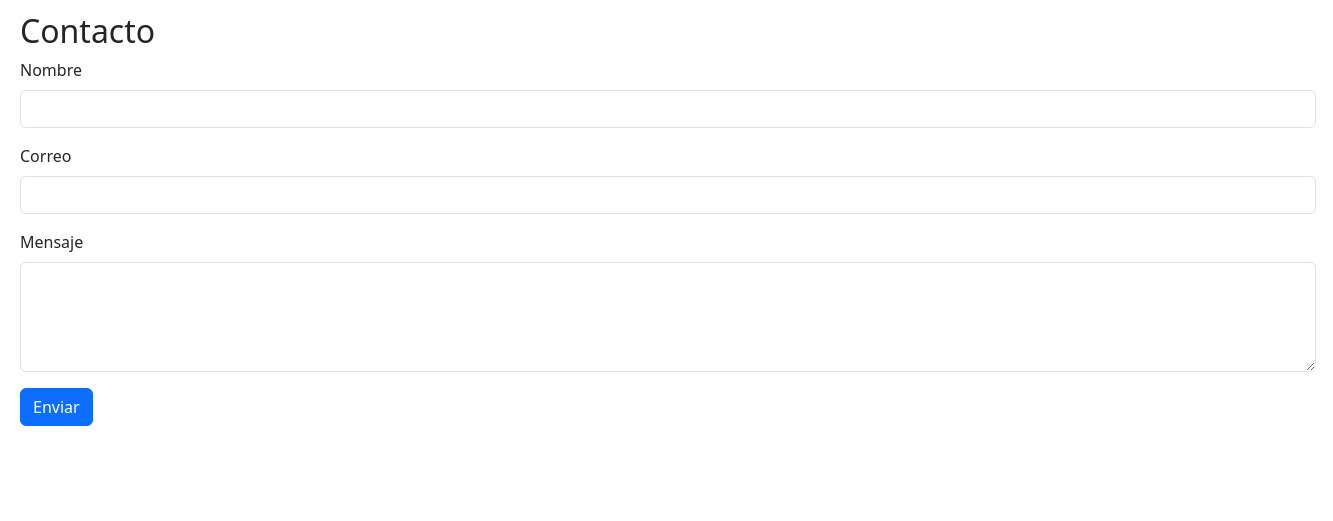
Test: Contact Component › muestra errores cuando el formulario se envía vacío
The image size is (1333, 521).
click en enviat sin rellenar nada
Step 1. Click the button "Enviar" → point(56, 407), box x1=20 y1=388 x2=93 y2=426
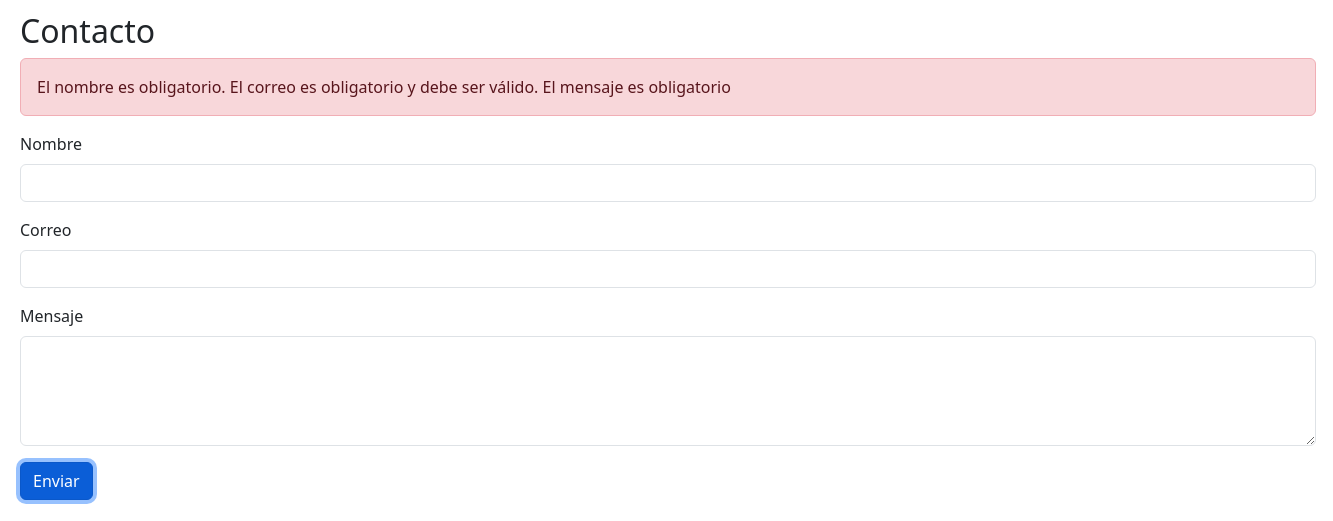
Now the text "El mensaje es obligatorio" is shown, box x1=37 y1=76 x2=731 y2=98
